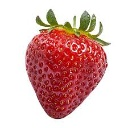strawberry: (24, 15, 108, 119)
